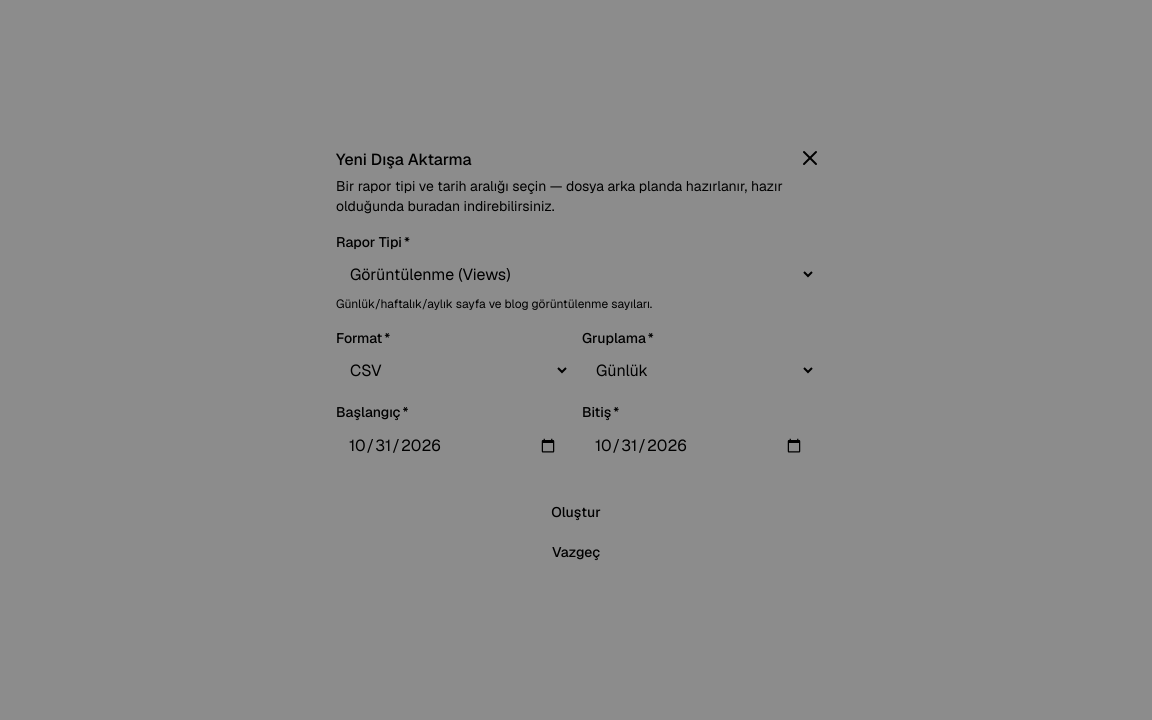
Test: CreateExportDialog — unmaskPii uyarısı yalnızca PII içerebilecek tiplerde görünür › tip REVENUE'a değiştirilince abonelik durumu filtresi görünür AMA unmaskPii uyarısı GÖRÜNMEZ (PII listesinde değil)
Select "Gelir (MRR)" in the dropdown labelled "Rapor Tipi*": point(576, 274) [336,258,816,290]
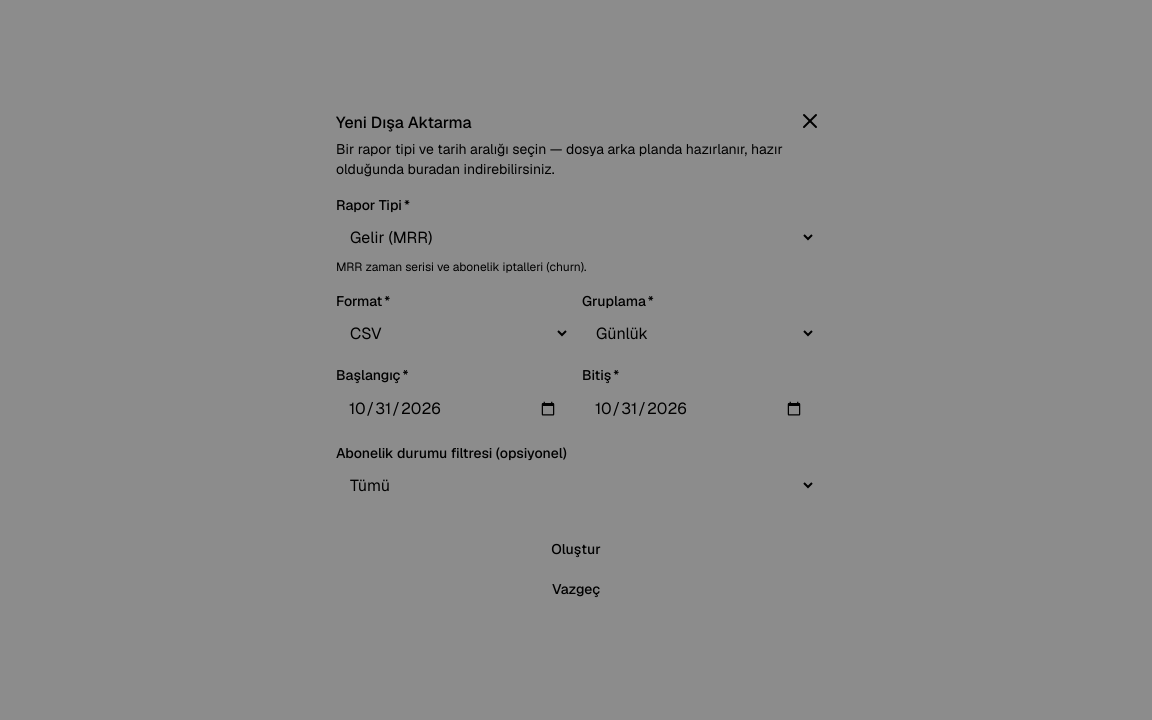
Now the dropdown labelled "Abonelik durumu filtresi (opsiyonel)" is shown, box [336,469,816,501]
